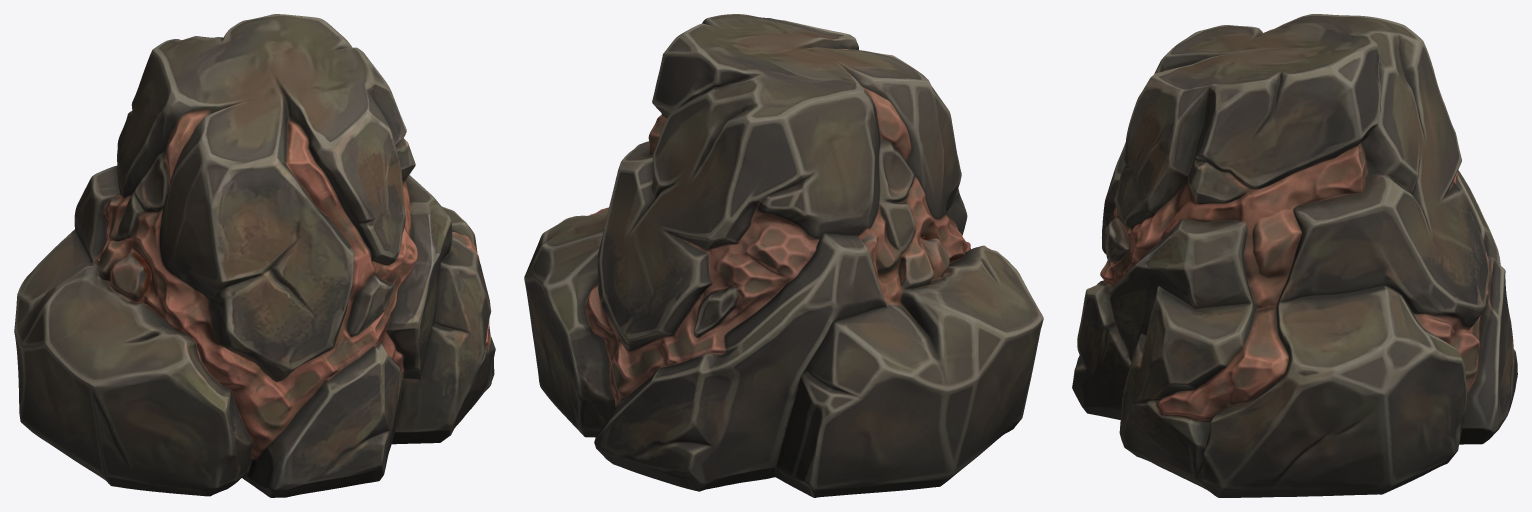
Rendered from Meshy_AI_Stylized_fantasy_survival_RPG_copper_ore_20261105_texture.fbx.
3 renders of one model, left to right at view 1: azimuth 30°, elevation 25°; view 2: azimuth 150°, elevation 25°; view 3: azimuth 270°, elevation 25°, orthographic. The views are drawn at different scales.
Parts seen in each view (by area): view 1: Mesh_0; view 2: Mesh_0; view 3: Mesh_0.
Boxes of the visible parts, x1,y1,x2,y2 form: Mesh_0: (14, 14, 495, 497); Mesh_0: (524, 14, 1043, 497); Mesh_0: (1072, 14, 1517, 497).
Bounding box in the file's own units: 190 × 152 × 162.
Materials: 1 (1 with a texture image).
